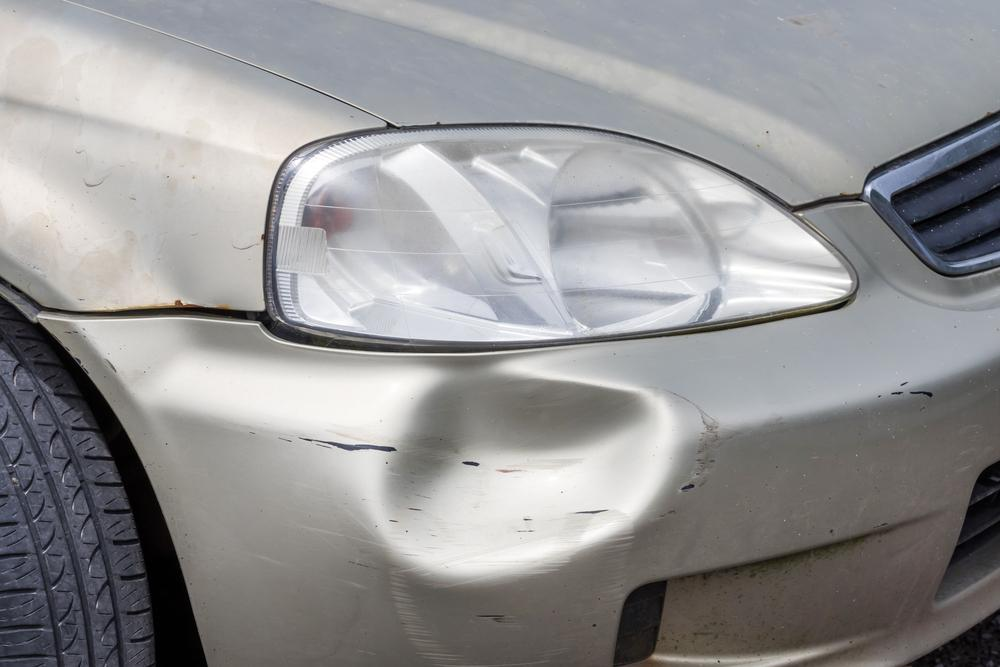dent: (377, 362, 672, 577)
scratch: (386, 526, 641, 667), (679, 392, 737, 491), (249, 429, 393, 457), (874, 376, 936, 400)
